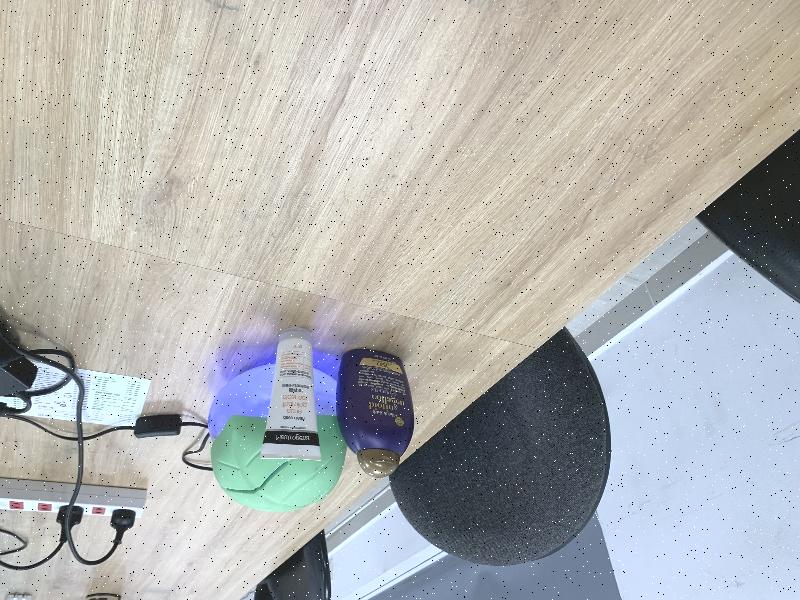AcneFoamingCleanser: (261, 327, 321, 459)
BiotinCollagen_Shampoo: (336, 348, 414, 478)
